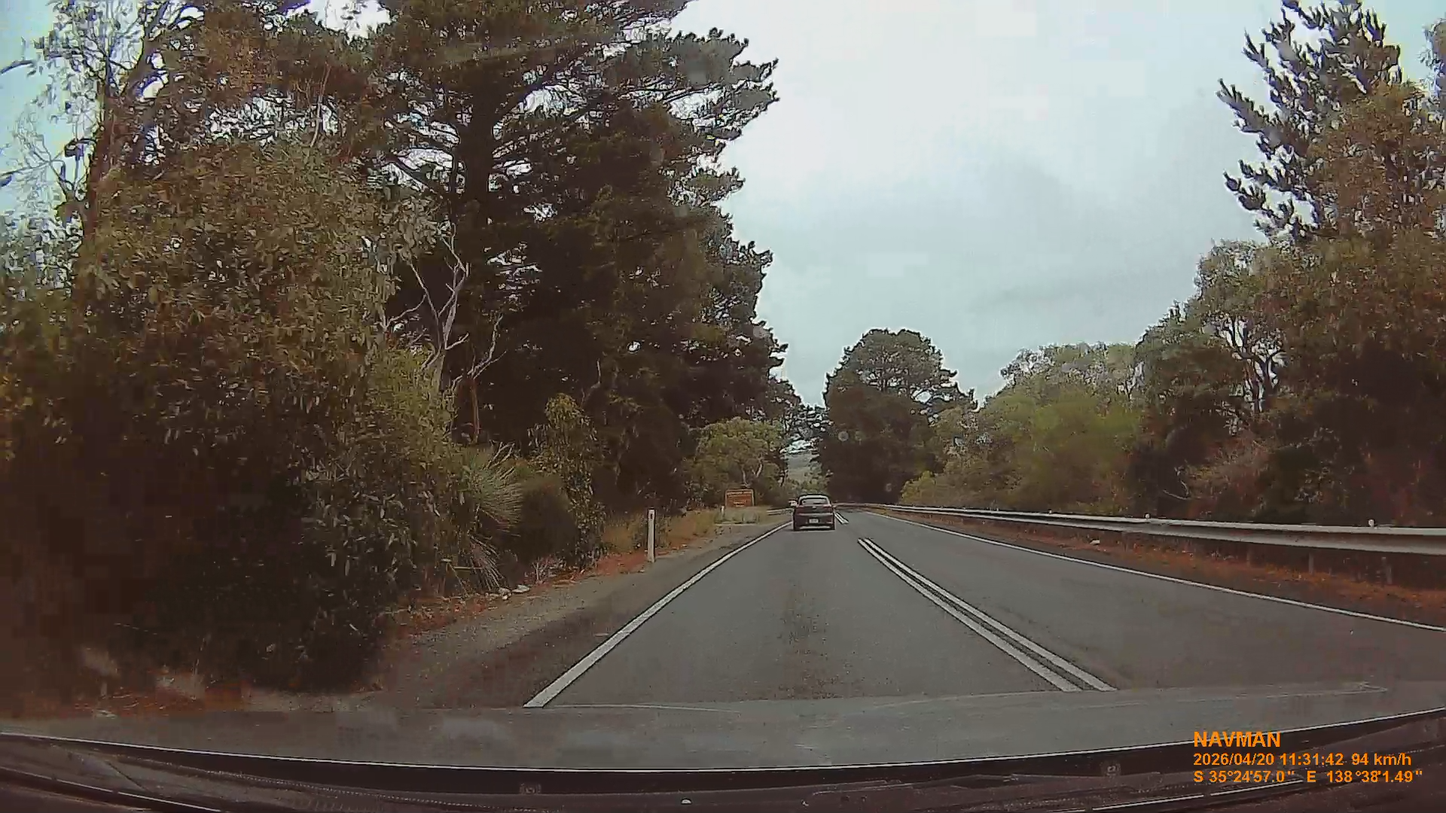road barriers: (895, 507, 1446, 584)
